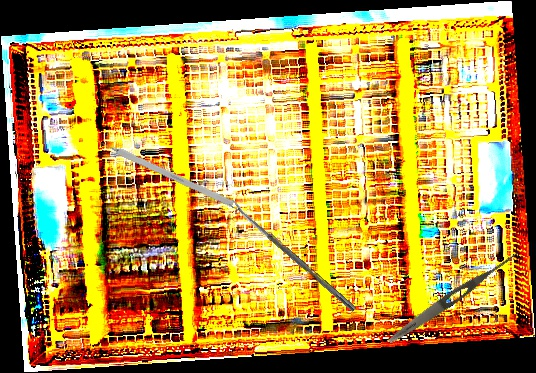Dressing Forceps: (385, 245, 523, 348)
Hook Surgical: (90, 135, 235, 208)
Surgical Spoon: (228, 199, 358, 312)
